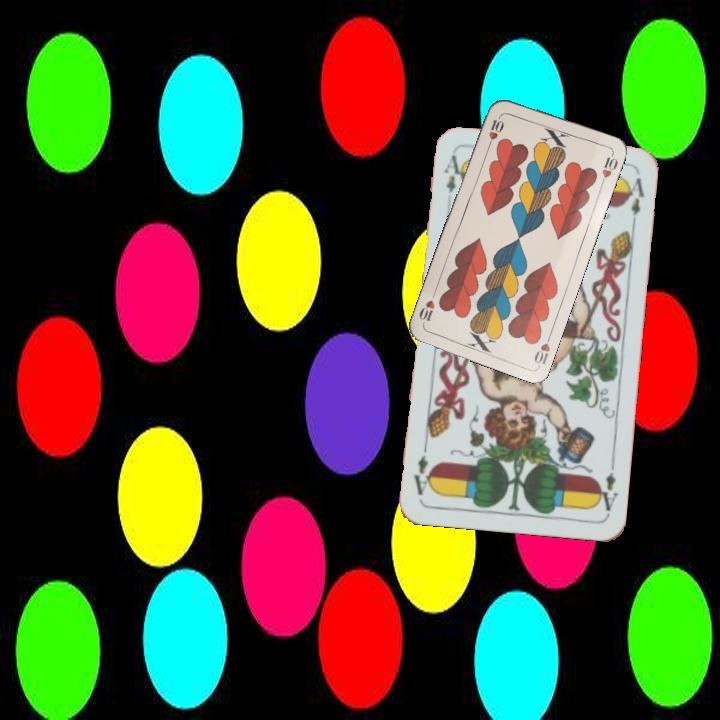EA: (592, 456, 620, 514), (440, 151, 463, 196)
H10: (530, 329, 554, 369), (483, 111, 506, 150)
